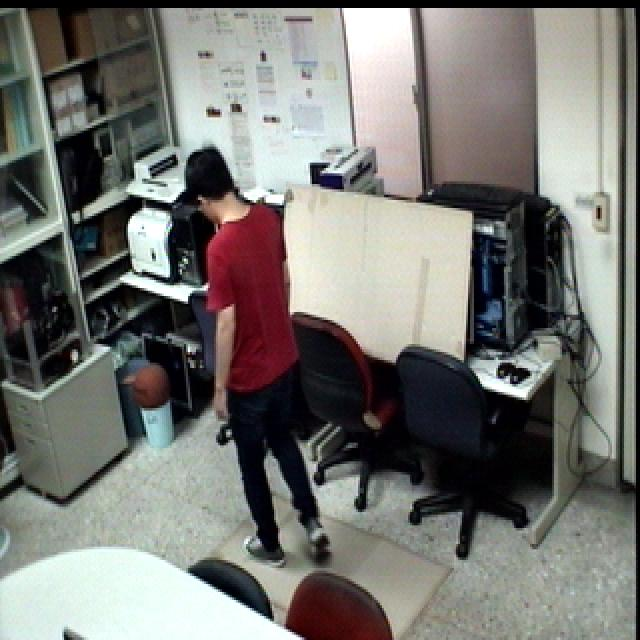stand: (182, 142, 341, 576)
